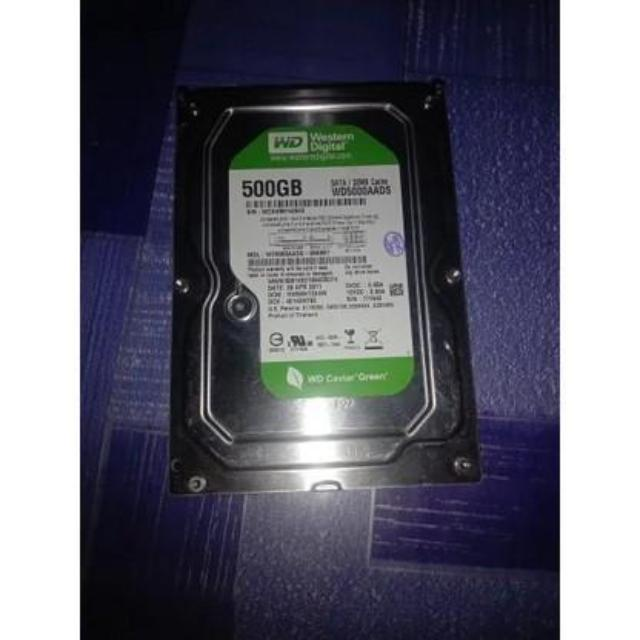DISK: (156, 68, 488, 490)
